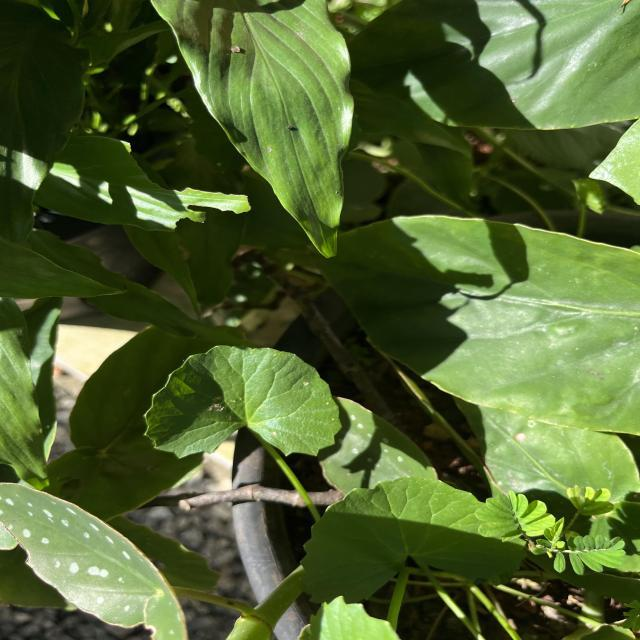Centella asiatica: (296, 473, 532, 606), (140, 341, 346, 462)
